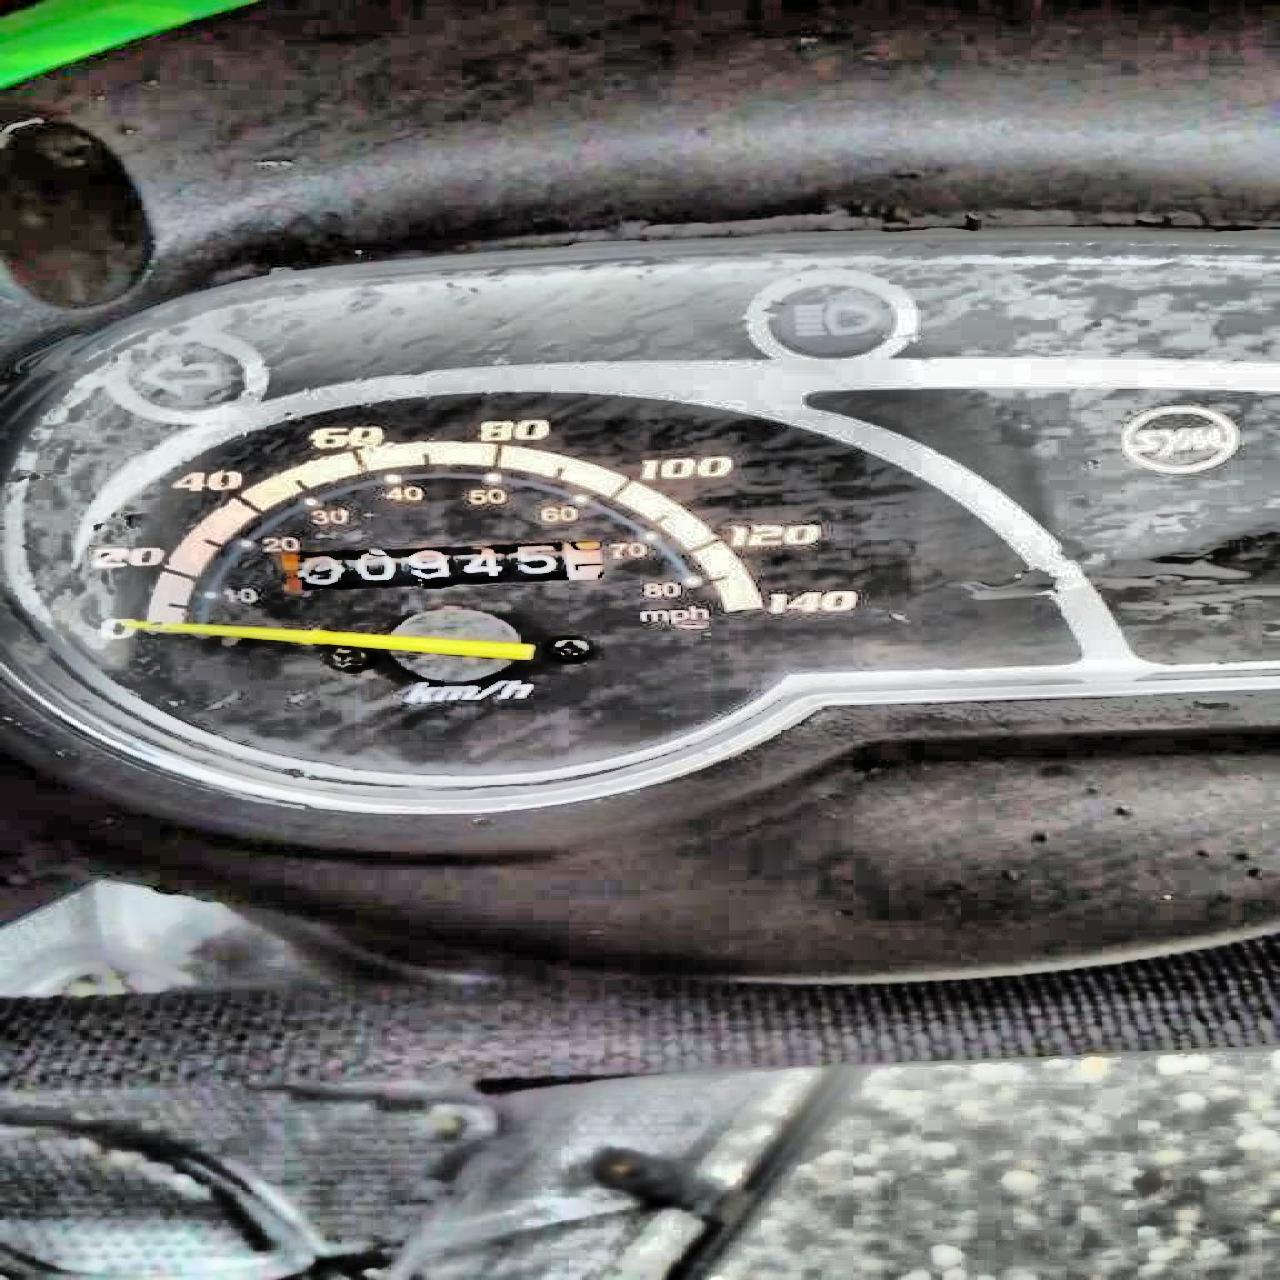0: (352, 546, 396, 586), (293, 554, 342, 588), (278, 535, 300, 551)
4: (459, 549, 504, 579)
5: (511, 540, 561, 576)
7: (571, 560, 605, 580)
9: (404, 545, 449, 583)
odometer: (275, 539, 608, 591)
